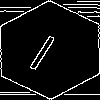I: (25, 25, 65, 72)
